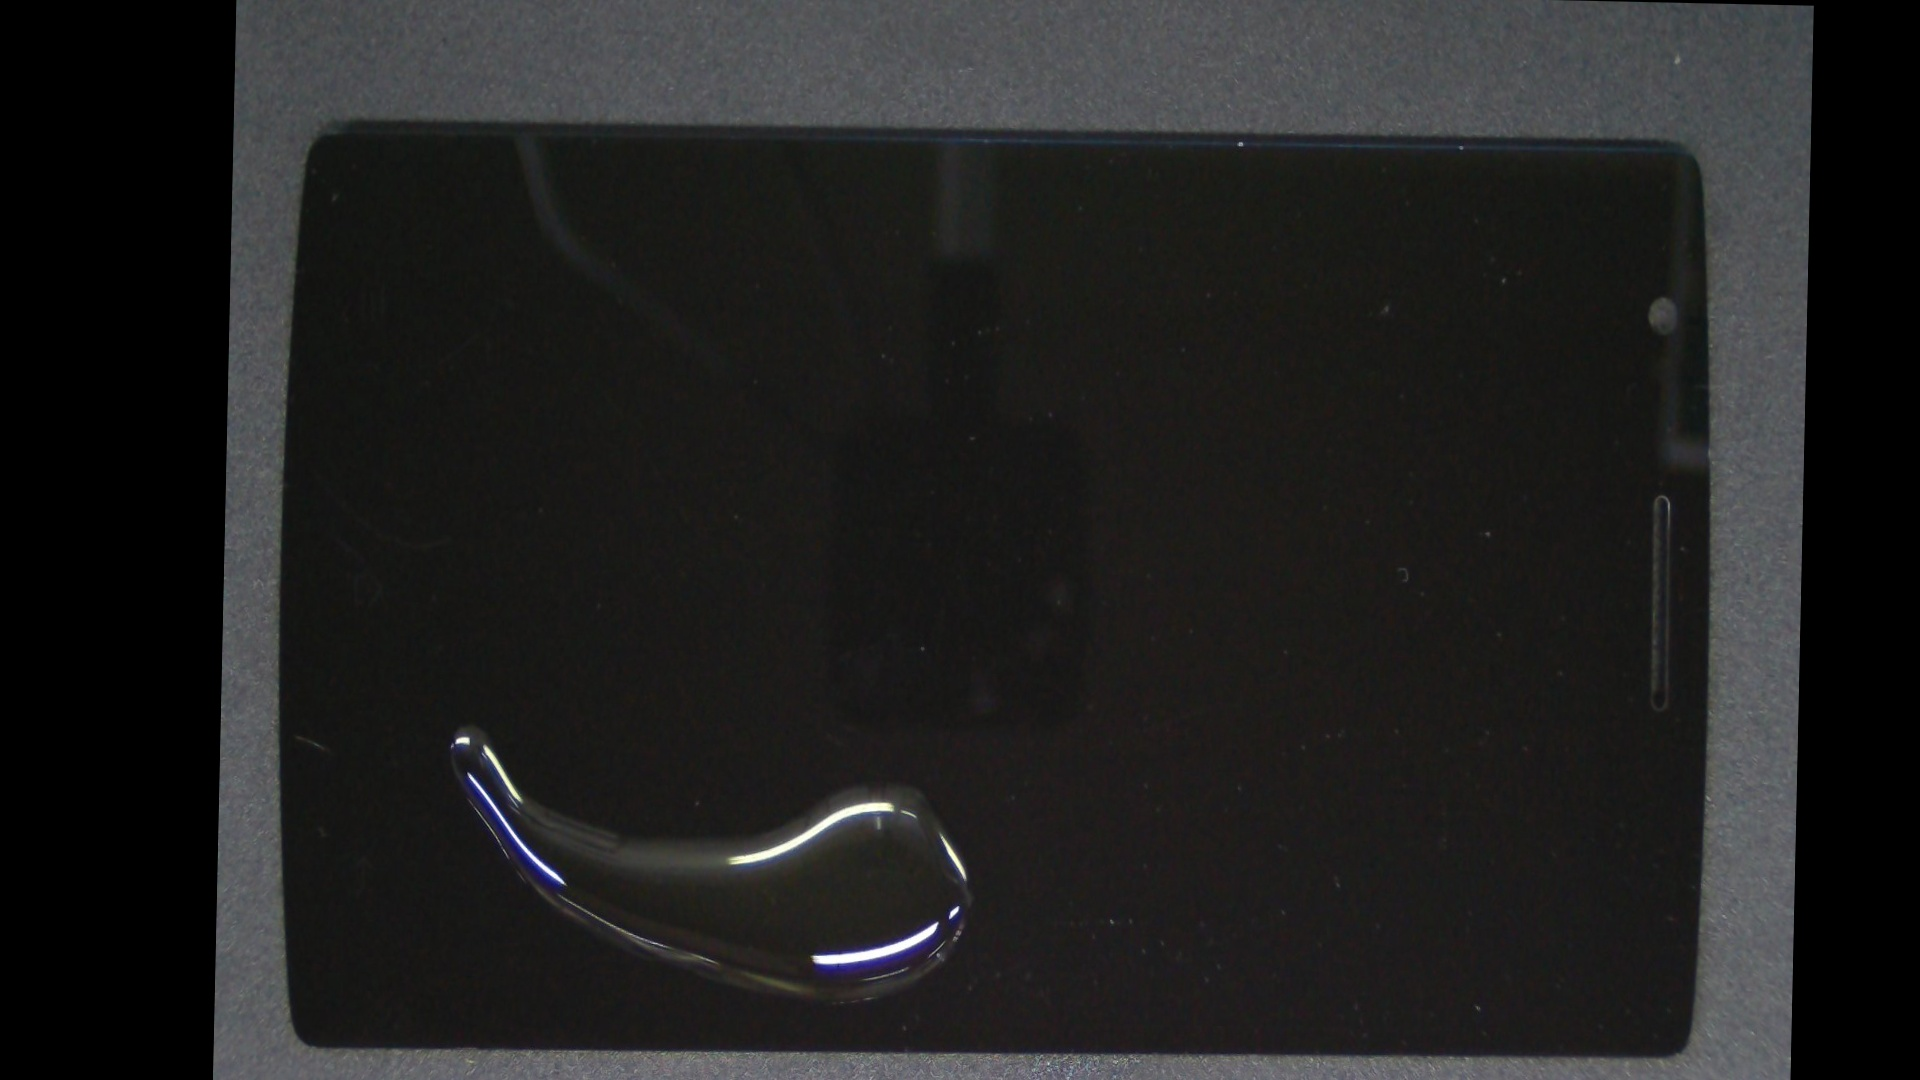oil: (336, 347, 599, 1080)
